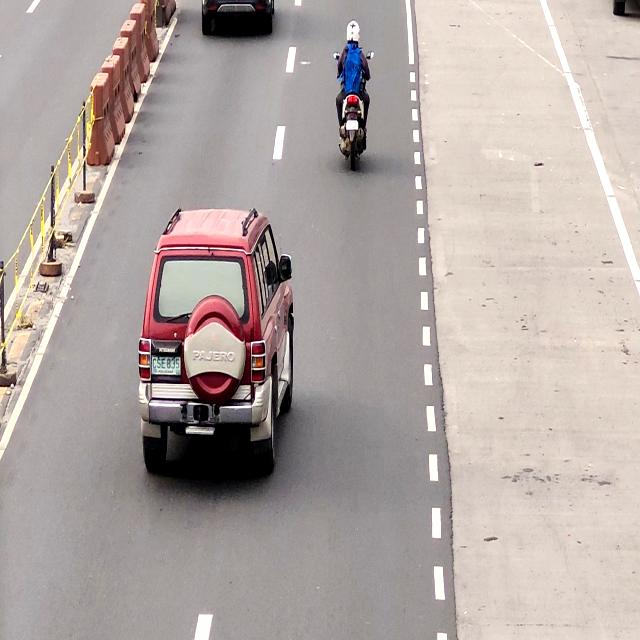Car: (142, 212, 290, 467)
License-Plate: (151, 353, 182, 381)
Motorcycle: (337, 19, 369, 172)
